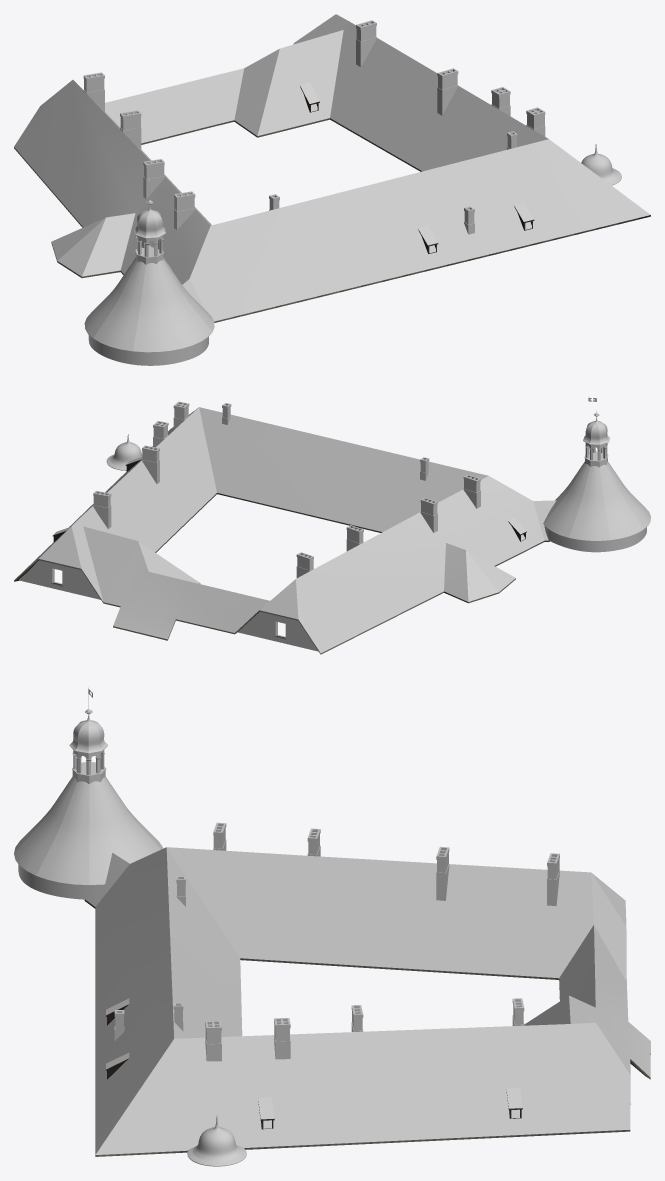
The model's file is 4_STAVS_2.fbx.
3 renders of one model, top to bottom at view 1: azimuth 30°, elevation 25°; view 2: azimuth 150°, elevation 25°; view 3: azimuth 270°, elevation 25°, orthographic. The views are drawn at different scales.
Visible parts, largest first — view 1: 4_JUMTS_2, 4_JUMTS, 4_JUMTS_TORNIM, 4_SKURSTENJI, 4_TORNJI, 4_METAL, 4_STAVS; view 2: 4_JUMTS_2, 4_JUMTS, 4_JUMTS_TORNIM, 4_STAVS, 4_SKURSTENJI, 4_TORNJI, 4_METAL; view 3: 4_JUMTS_2, 4_JUMTS, 4_JUMTS_TORNIM, 4_SKURSTENJI, 4_TORNJI, 4_METAL, 4_STAVS.
Part boxes in pixels (x1=…): 4_JUMTS_2: x1=14, y1=80, x2=650, y2=321; 4_JUMTS: x1=105, y1=14, x2=548, y2=221; 4_JUMTS_TORNIM: x1=84, y1=257, x2=214, y2=352; 4_SKURSTENJI: x1=83, y1=20, x2=545, y2=234; 4_TORNJI: x1=133, y1=144, x2=621, y2=264; 4_METAL: x1=14, y1=118, x2=650, y2=322; 4_STAVS: x1=88, y1=335, x2=208, y2=365; 4_JUMTS_2: x1=199, y1=407, x2=556, y2=652; 4_JUMTS: x1=16, y1=407, x2=298, y2=639; 4_JUMTS_TORNIM: x1=543, y1=461, x2=650, y2=541; 4_STAVS: x1=18, y1=525, x2=646, y2=651; 4_SKURSTENJI: x1=93, y1=401, x2=480, y2=577; 4_TORNJI: x1=106, y1=397, x2=609, y2=470; 4_METAL: x1=14, y1=493, x2=549, y2=654; 4_JUMTS_2: x1=85, y1=847, x2=593, y2=1154; 4_JUMTS: x1=95, y1=873, x2=650, y2=1154; 4_JUMTS_TORNIM: x1=14, y1=777, x2=163, y2=885; 4_SKURSTENJI: x1=114, y1=822, x2=559, y2=1061; 4_TORNJI: x1=69, y1=687, x2=246, y2=1166; 4_METAL: x1=84, y1=899, x2=650, y2=1156; 4_STAVS: x1=18, y1=864, x2=98, y2=899.
Bounding box in the file's own units: 60584 × 18020 × 49800.
